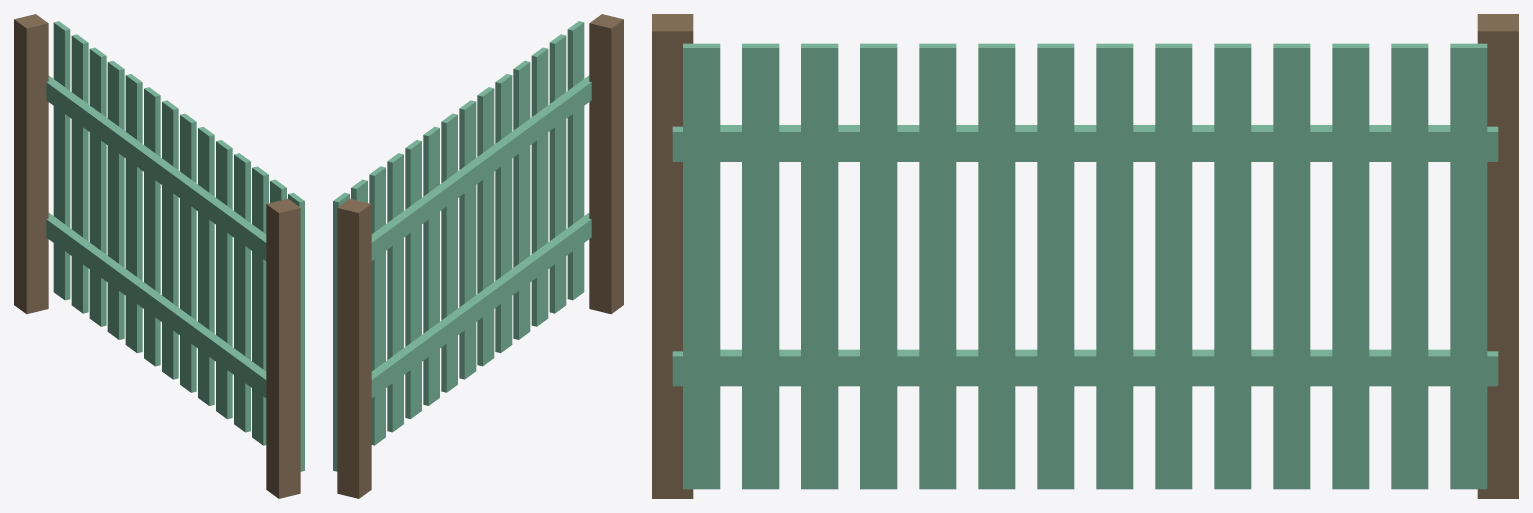
File: Plot_Sztachety_Zielony.fbx
3 views of the same model, side by side, from view 1: azimuth 30°, elevation 25°; view 2: azimuth 150°, elevation 25°; view 3: azimuth 270°, elevation 25° (orthographic). The views are drawn at different scales.
Parts seen in each view (by area): view 1: Plot_Sztachety_Zielony; view 2: Plot_Sztachety_Zielony; view 3: Plot_Sztachety_Zielony.
Part boxes in pixels (x1,y1,x2,y2): Plot_Sztachety_Zielony: [14, 14, 304, 498]; Plot_Sztachety_Zielony: [333, 14, 623, 498]; Plot_Sztachety_Zielony: [652, 14, 1518, 498].
Size of the model in its own units: 0.1625 by 1.25 by 2.1.
